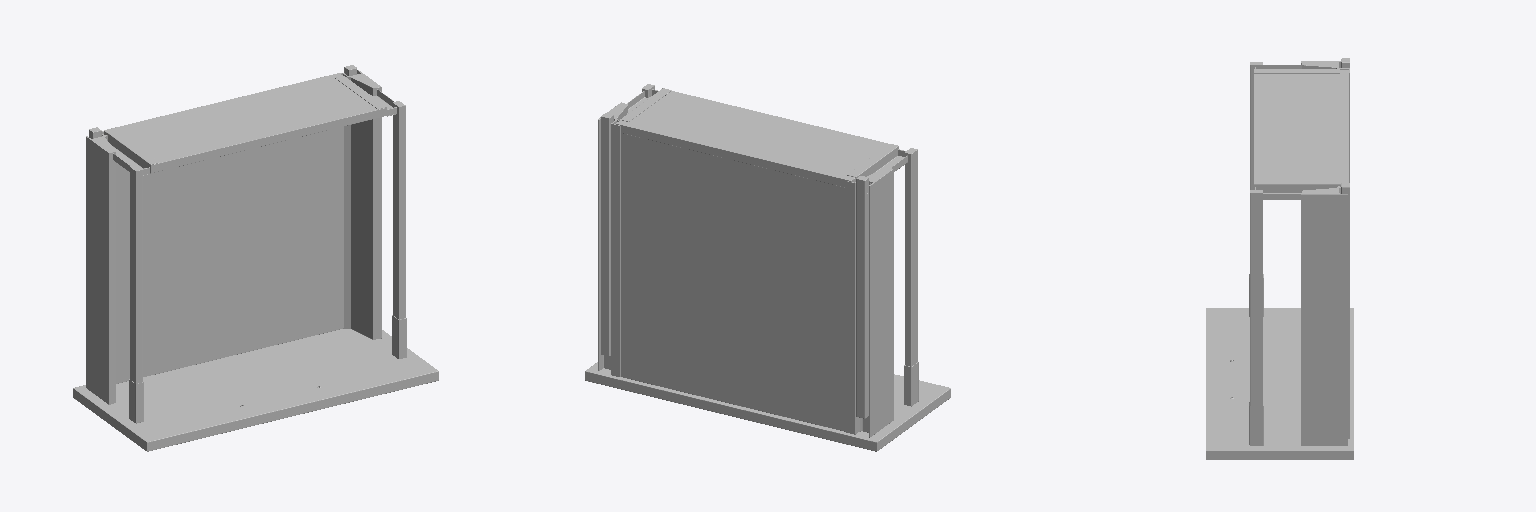
Rendered from SM_Kitchen_05_Base_Drawer_02.obj.
3 views of the same model, side by side, from view 1: azimuth 30°, elevation 25°; view 2: azimuth 150°, elevation 25°; view 3: azimuth 270°, elevation 25° (orthographic).
Visible parts, largest first — view 1: SM_Kitchen_05_Base_Drawer_02; view 2: SM_Kitchen_05_Base_Drawer_02; view 3: SM_Kitchen_05_Base_Drawer_02.
Boxes of the visible parts, <box> form: SM_Kitchen_05_Base_Drawer_02: <box>73,65,438,451</box>; SM_Kitchen_05_Base_Drawer_02: <box>585,84,950,451</box>; SM_Kitchen_05_Base_Drawer_02: <box>1206,58,1353,459</box>.
Size of the model in its own units: 0.5969 by 0.5199 by 0.263.